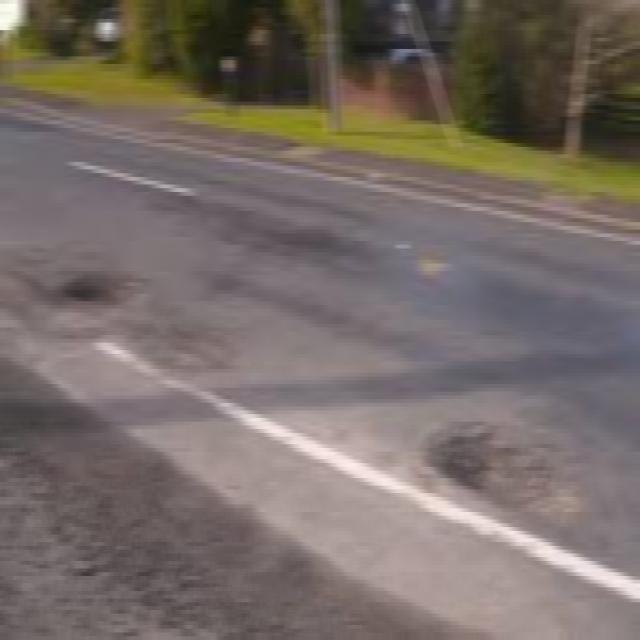Pothole: (395, 412, 595, 546), (47, 260, 142, 320)
